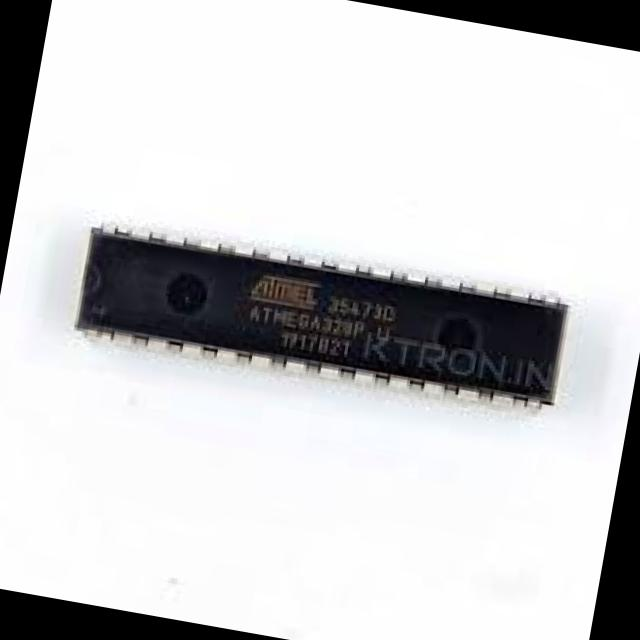atmega: (62, 208, 576, 426)
